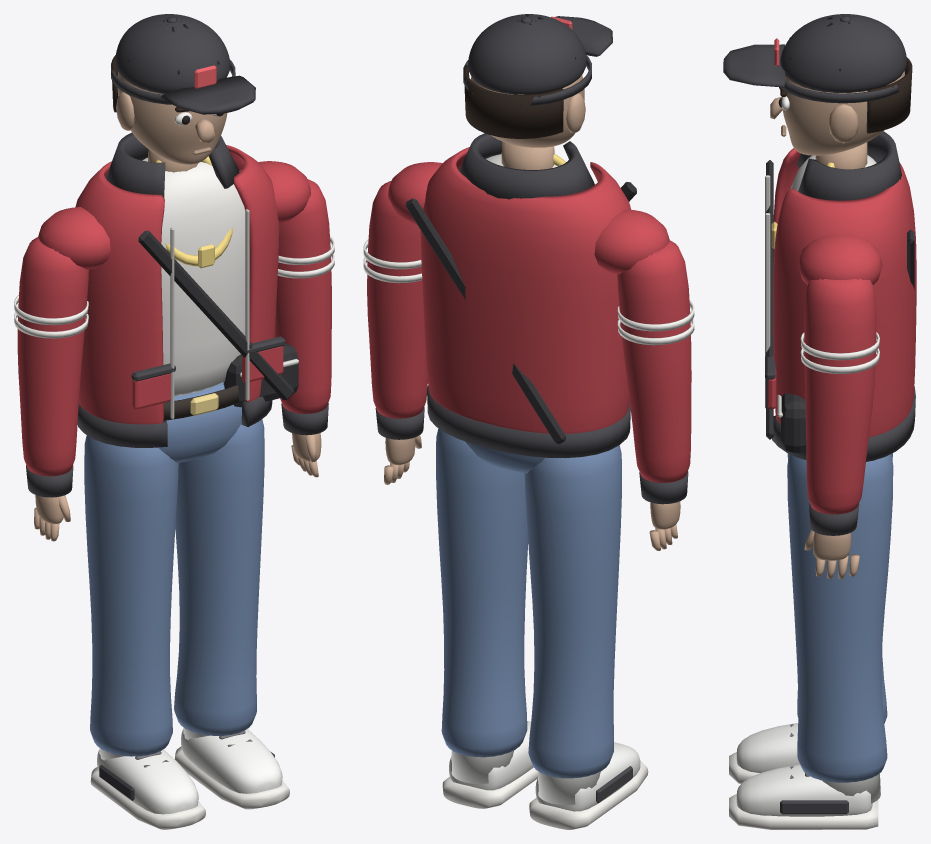
Rendered from player.glb.
The picture shows the model from 3 angles, left to right: view 1: azimuth 30°, elevation 25°; view 2: azimuth 150°, elevation 25°; view 3: azimuth 270°, elevation 25°; orthographic projection. The views are drawn at different scales.
Parts seen in each view (by area): view 1: LegL_Jeans, LegR_Jeans, JacketShell, Tee, ArmL_Sleeve, ArmR_Sleeve, CapCrown, LegR_Shoe, LegL_Shoe, Head, Collar, Pelvis (+20 smaller); view 2: JacketShell, LegL_Jeans, LegR_Jeans, ArmL_Sleeve, ArmR_Sleeve, CapCrown, JacketHem, Collar, HairFade, ShoulderL, SlingBack, LegL_Sole (+18 smaller); view 3: LegR_Jeans, JacketShell, ArmR_Sleeve, CapCrown, Collar, LegR_Shoe, Head, ShoulderR, LegL_Shoe, LegR_Sole, CapBrim, HairFade (+15 smaller).
Boxes of the visible parts, <box> form: LegL_Jeans: <box>84,435,178,756</box>; LegR_Jeans: <box>174,419,264,735</box>; JacketShell: <box>75,145,279,424</box>; Tee: <box>142,157,245,396</box>; ArmL_Sleeve: <box>17,237,88,476</box>; ArmR_Sleeve: <box>274,179,331,413</box>; CapCrown: <box>115,14,230,93</box>; LegR_Shoe: <box>181,729,282,793</box>; LegL_Shoe: <box>97,749,198,814</box>; Head: <box>117,72,227,164</box>; Collar: <box>106,132,239,197</box>; Pelvis: <box>158,382,241,462</box>; JacketShell: <box>420,147,631,433</box>; LegL_Jeans: <box>524,445,621,778</box>; LegR_Jeans: <box>436,428,528,757</box>; ArmL_Sleeve: <box>617,240,691,482</box>; ArmR_Sleeve: <box>367,180,427,418</box>; CapCrown: <box>468,14,586,94</box>; JacketHem: <box>427,385,630,458</box>; Collar: <box>459,133,594,199</box>; HairFade: <box>464,65,563,138</box>; ShoulderL: <box>594,209,669,274</box>; SlingBack: <box>406,198,566,444</box>; LegL_Sole: <box>529,761,648,829</box>; LegR_Jeans: <box>787,454,893,782</box>; JacketShell: <box>773,148,916,437</box>; ArmR_Sleeve: <box>804,279,876,514</box>; CapCrown: <box>780,14,906,92</box>; Collar: <box>796,131,901,200</box>; LegR_Shoe: <box>736,764,872,816</box>; Head: <box>781,71,904,155</box>; ShoulderR: <box>798,235,882,284</box>; LegL_Shoe: <box>736,723,799,772</box>; LegR_Sole: <box>729,794,878,829</box>; CapBrim: <box>723,44,784,87</box>; HairFade: <box>866,57,912,133</box>.
Size of the model in its own units: 0.8504 by 2 by 0.4477.
